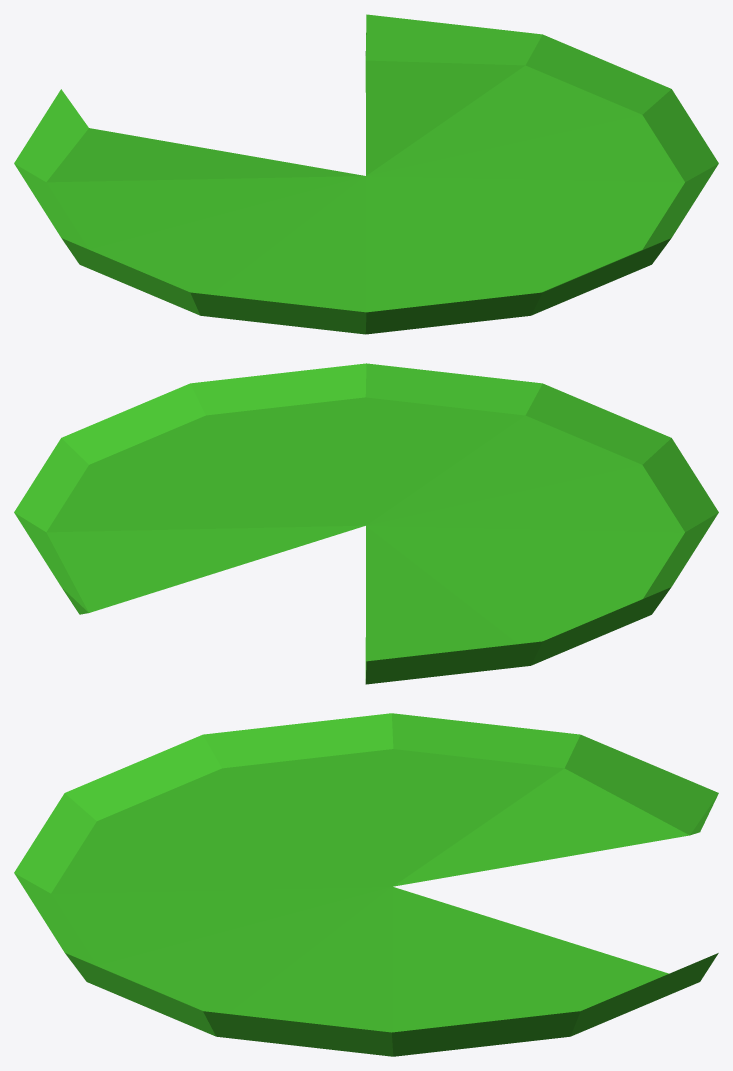
File: Lillypad.fbx
The picture shows the model from 3 angles, top to bottom: view 1: azimuth 30°, elevation 25°; view 2: azimuth 150°, elevation 25°; view 3: azimuth 270°, elevation 25°; orthographic projection. The views are drawn at different scales.
Visible parts, largest first — view 1: Cylinder; view 2: Cylinder; view 3: Cylinder.
Part boxes in pixels (x1,y1,x2,y2): Cylinder: (14, 14, 718, 334); Cylinder: (14, 363, 718, 684); Cylinder: (14, 713, 718, 1056).
Size of the model in its own units: 69.96 by 3.57 by 65.27.
